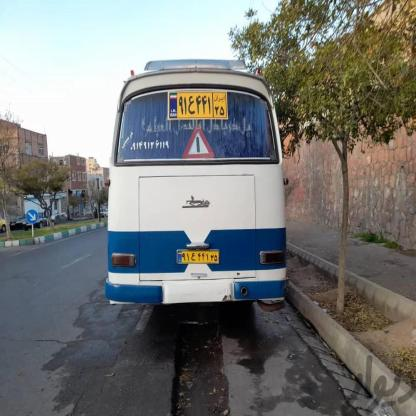Bus: (104, 52, 302, 334)
